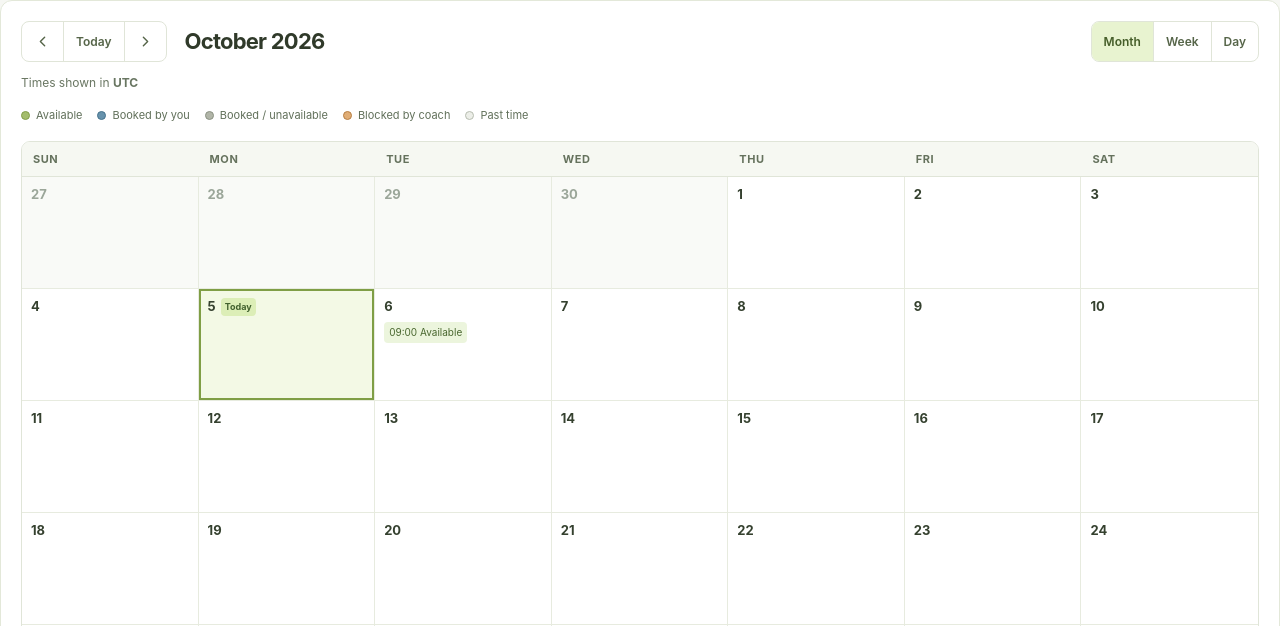
it: booking calendar › navigates previous, next and Today across month, week and day time grids
Click the button named "Previous period": (42, 42) [22,22,63,61]
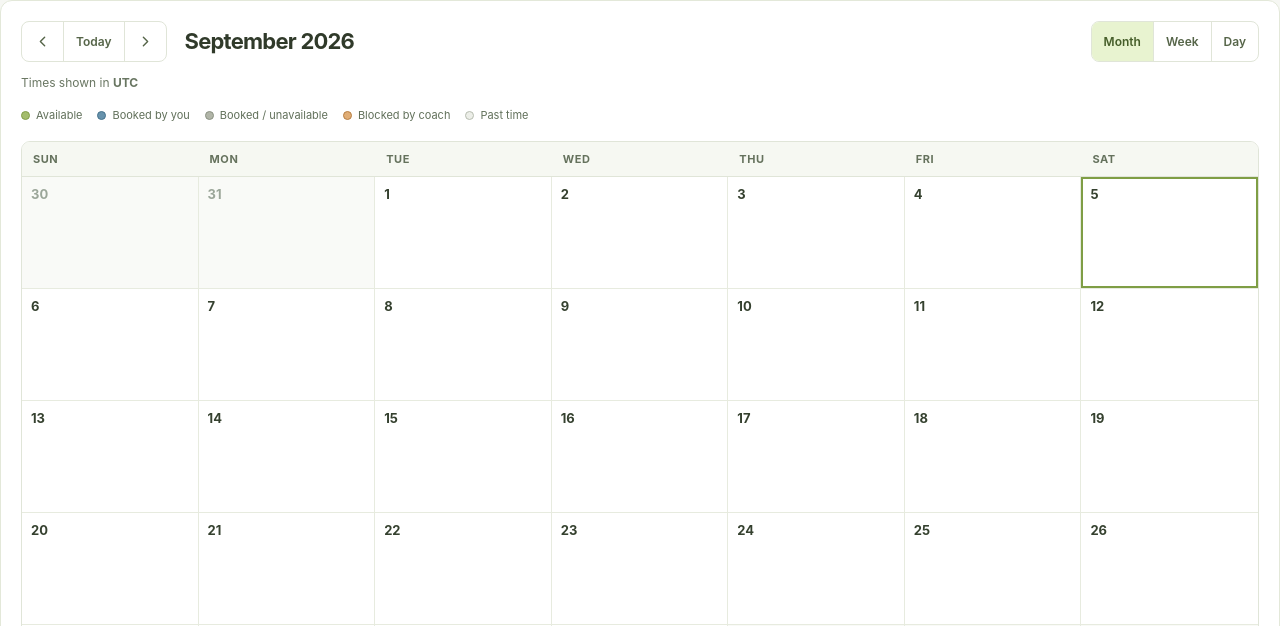
Result: the heading "September 2026" is shown at [184,28,354,54]
Click the button named "Next period": (144, 42) [124,22,166,61]
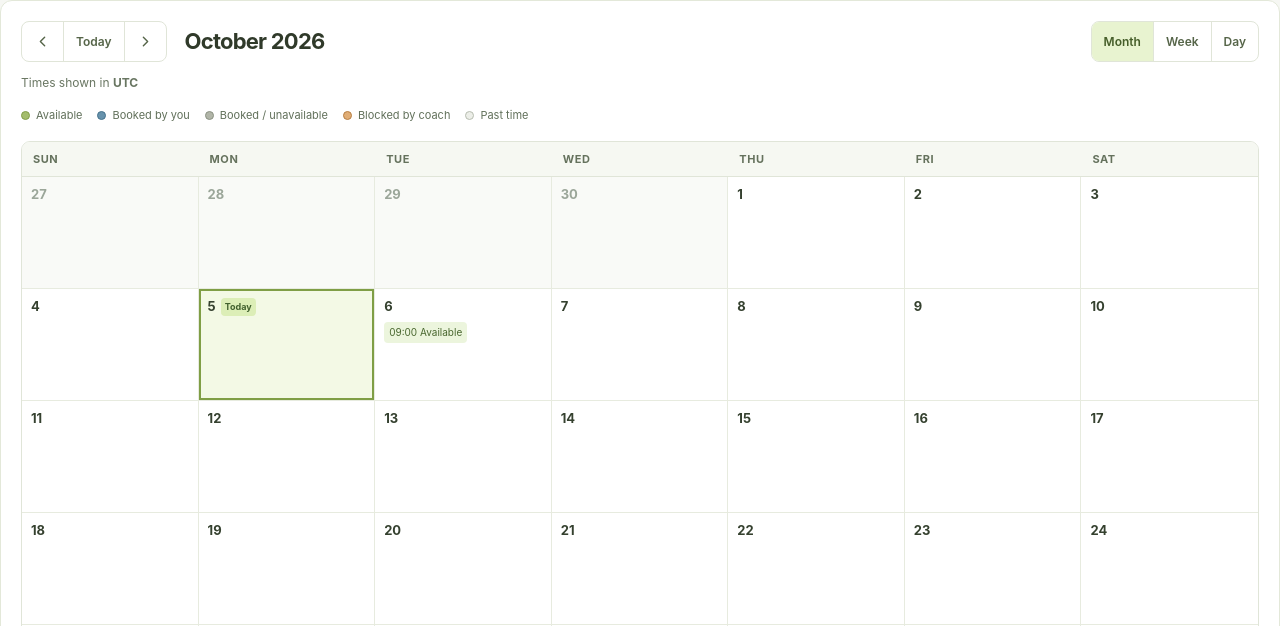
Result: the heading "October 2026" is shown at [184,28,324,54]
Click the button "Week": (1182, 42) [1153,22,1211,61]
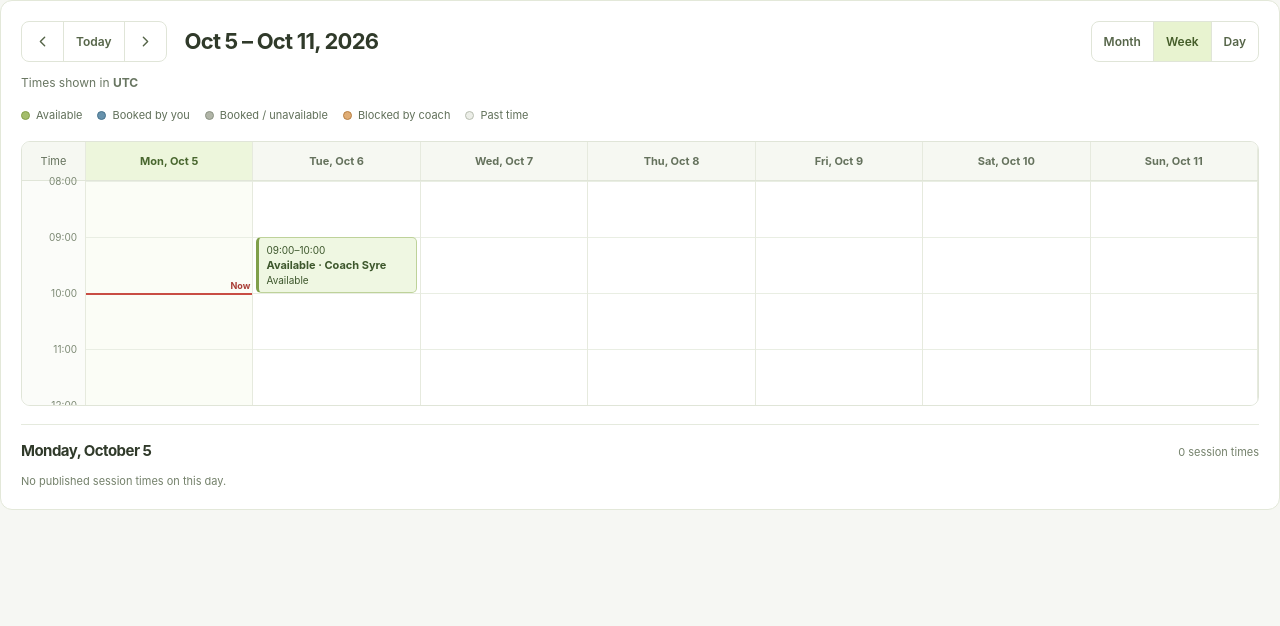
Result: the heading "Oct 5 – Oct 11, 2026" is shown at [184,28,378,54]
Result: the element named "week time grid" is shown at [21,140,1259,406]
Result: the text "09:00" is shown at [49,230,77,244]
Click the button named "Next period": (144, 42) [124,22,166,61]
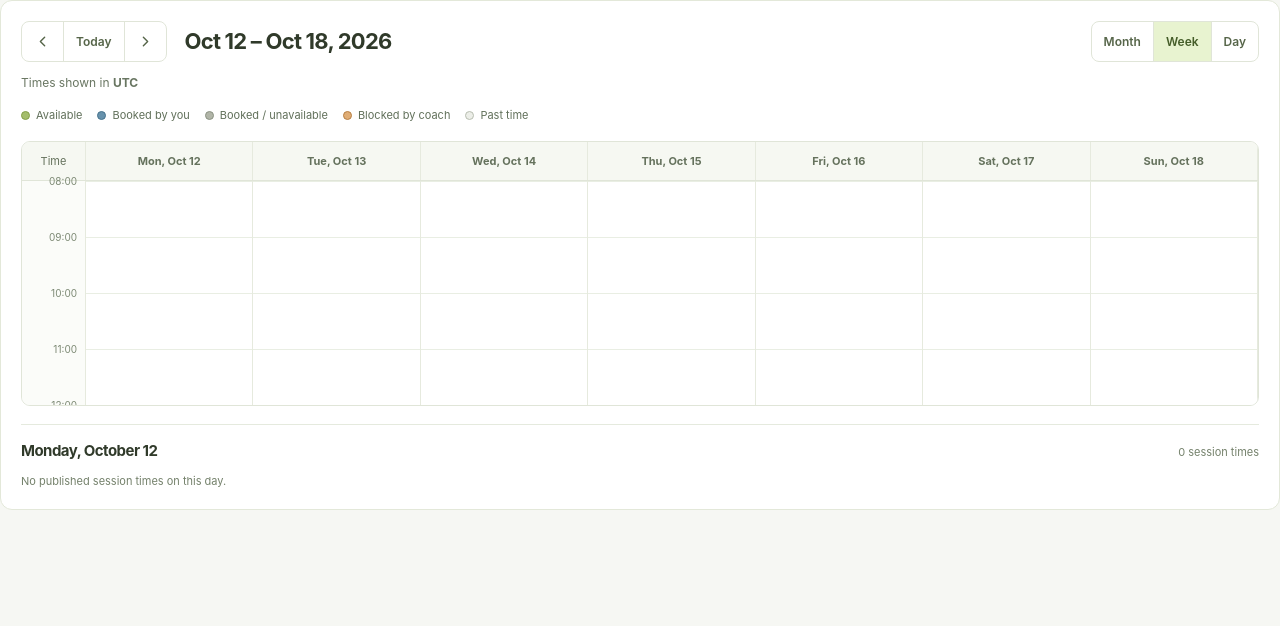
Result: the heading "Oct 12 – Oct 18, 2026" is shown at [184,28,392,54]
Click the button "Today": (93, 42) [63,22,124,61]
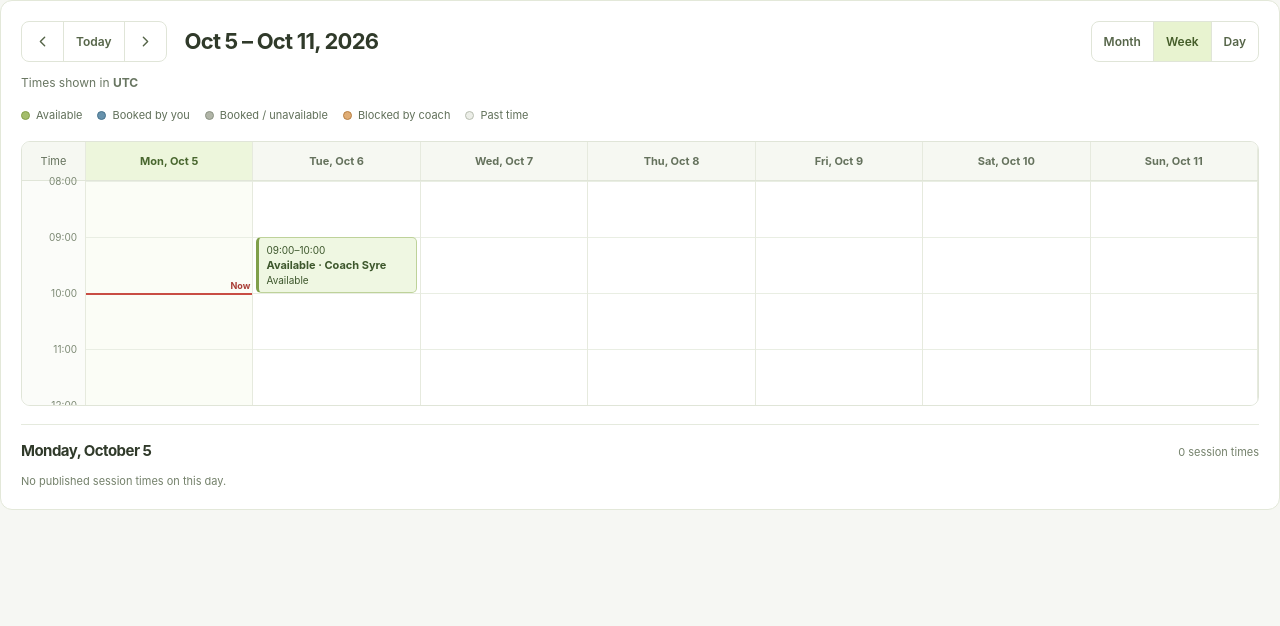
Result: the heading "Oct 5 – Oct 11, 2026" is shown at [184,28,378,54]
Click the button "Day": (1234, 42) [1211,22,1258,61]
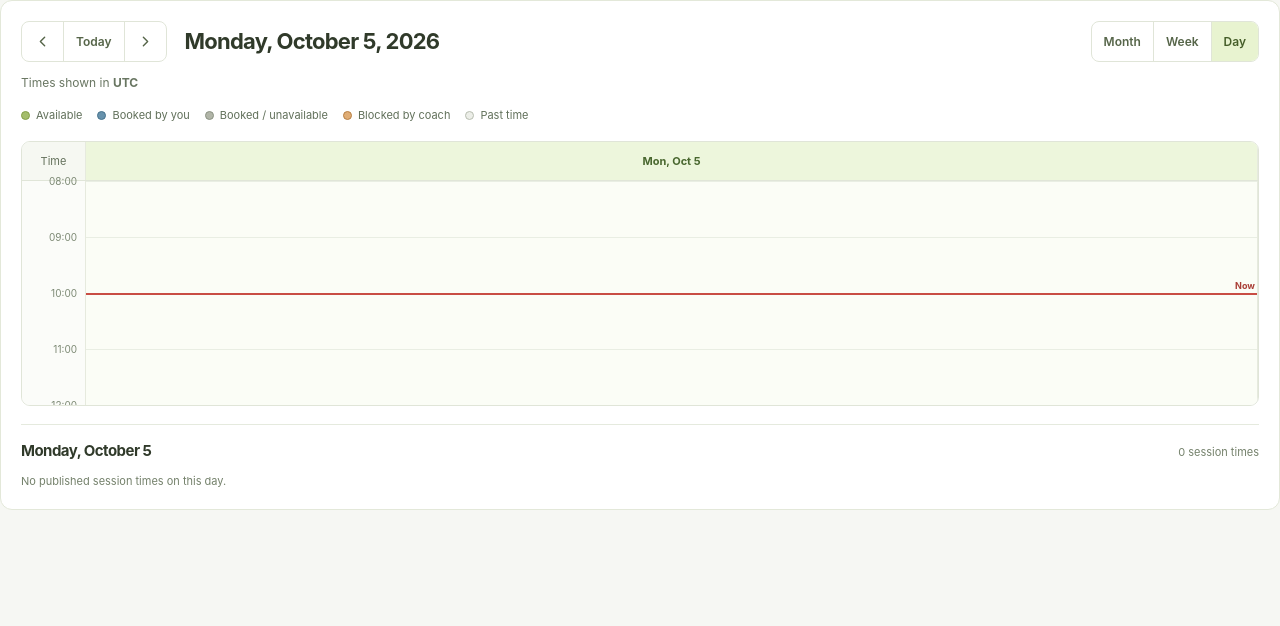
Result: the heading "Monday, October 5, 2026" is shown at [184,28,439,54]
Result: the element named "day time grid" is shown at [21,140,1259,406]
